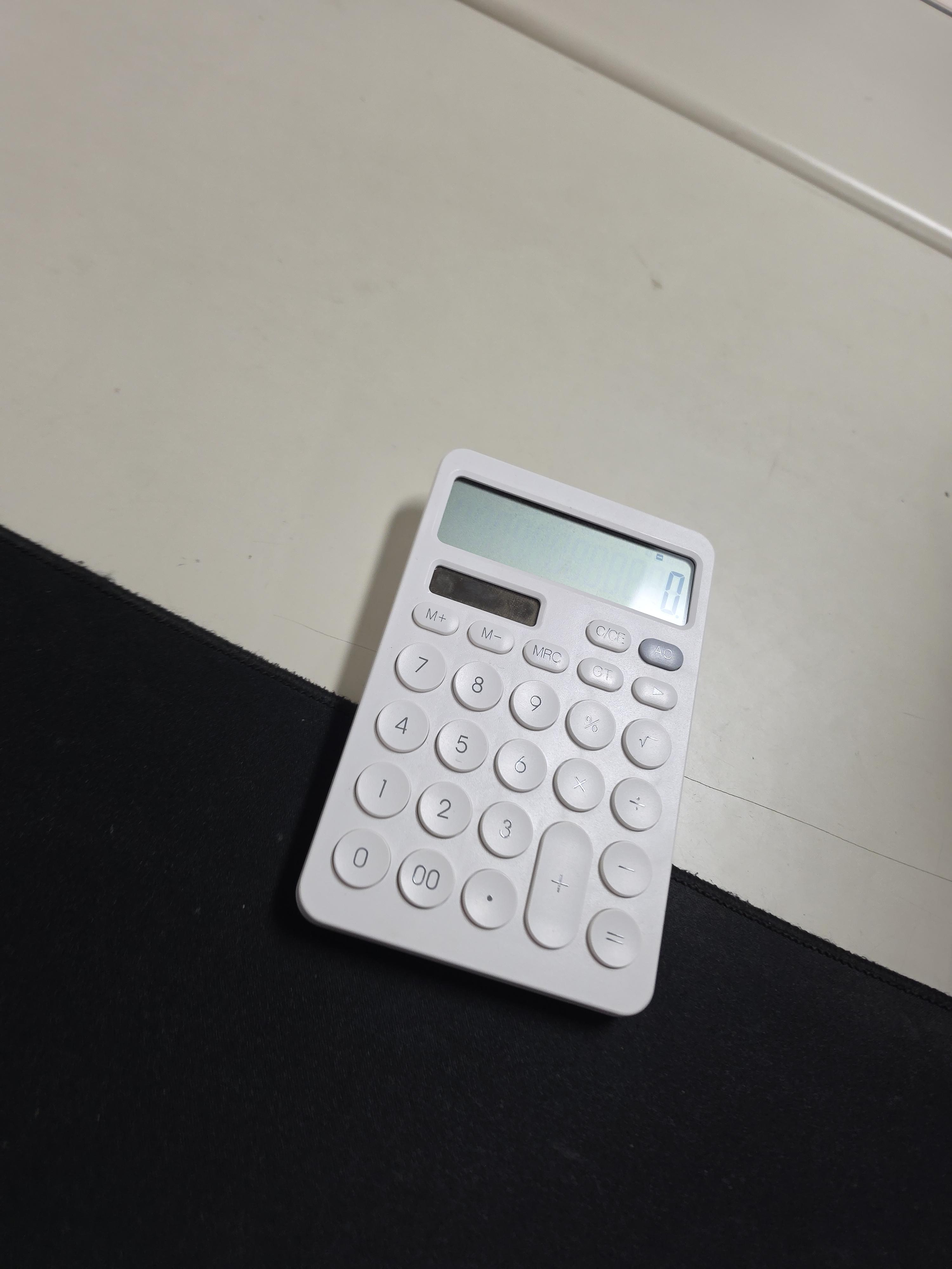calculator: (296, 448, 715, 1017)
